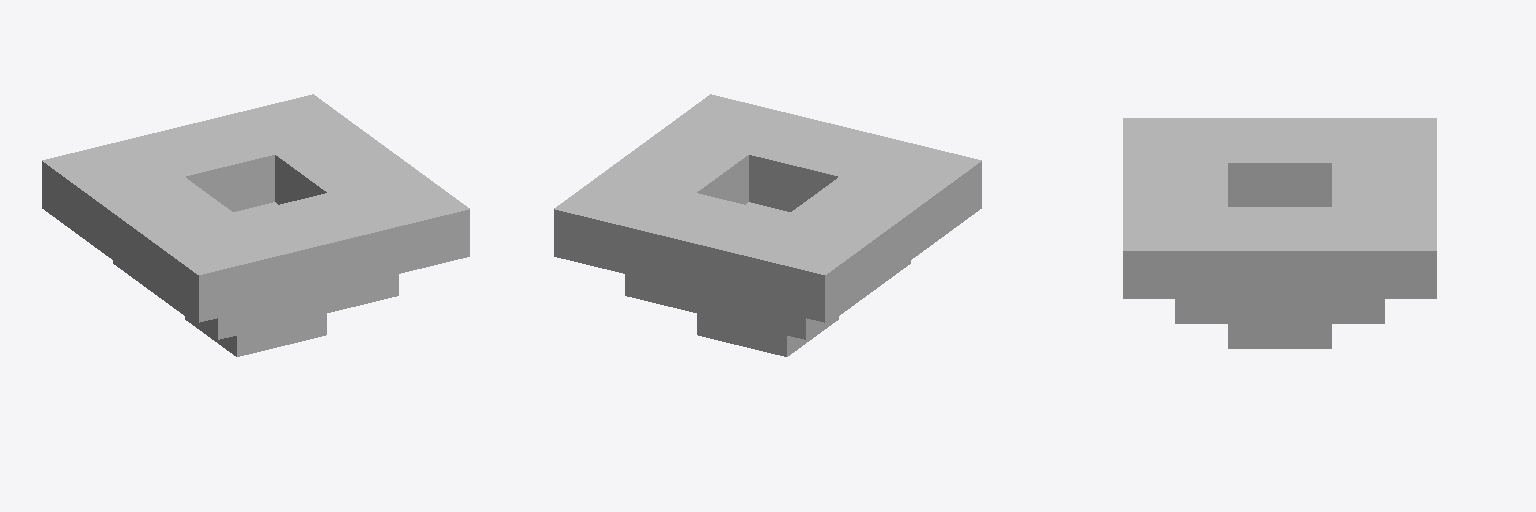
The model's file is egg_voxel.obj.
The picture shows the model from 3 angles: view 1: azimuth 30°, elevation 25°; view 2: azimuth 150°, elevation 25°; view 3: azimuth 270°, elevation 25°; orthographic projection.
Visible parts, largest first — view 1: dragon_smashed; view 2: dragon_smashed; view 3: dragon_smashed.
Boxes of the visible parts, <box> form: dragon_smashed: <box>42,94,469,356</box>; dragon_smashed: <box>554,94,981,356</box>; dragon_smashed: <box>1123,118,1436,348</box>.
Size of the model in its own units: 0.375 by 0.1875 by 0.375.